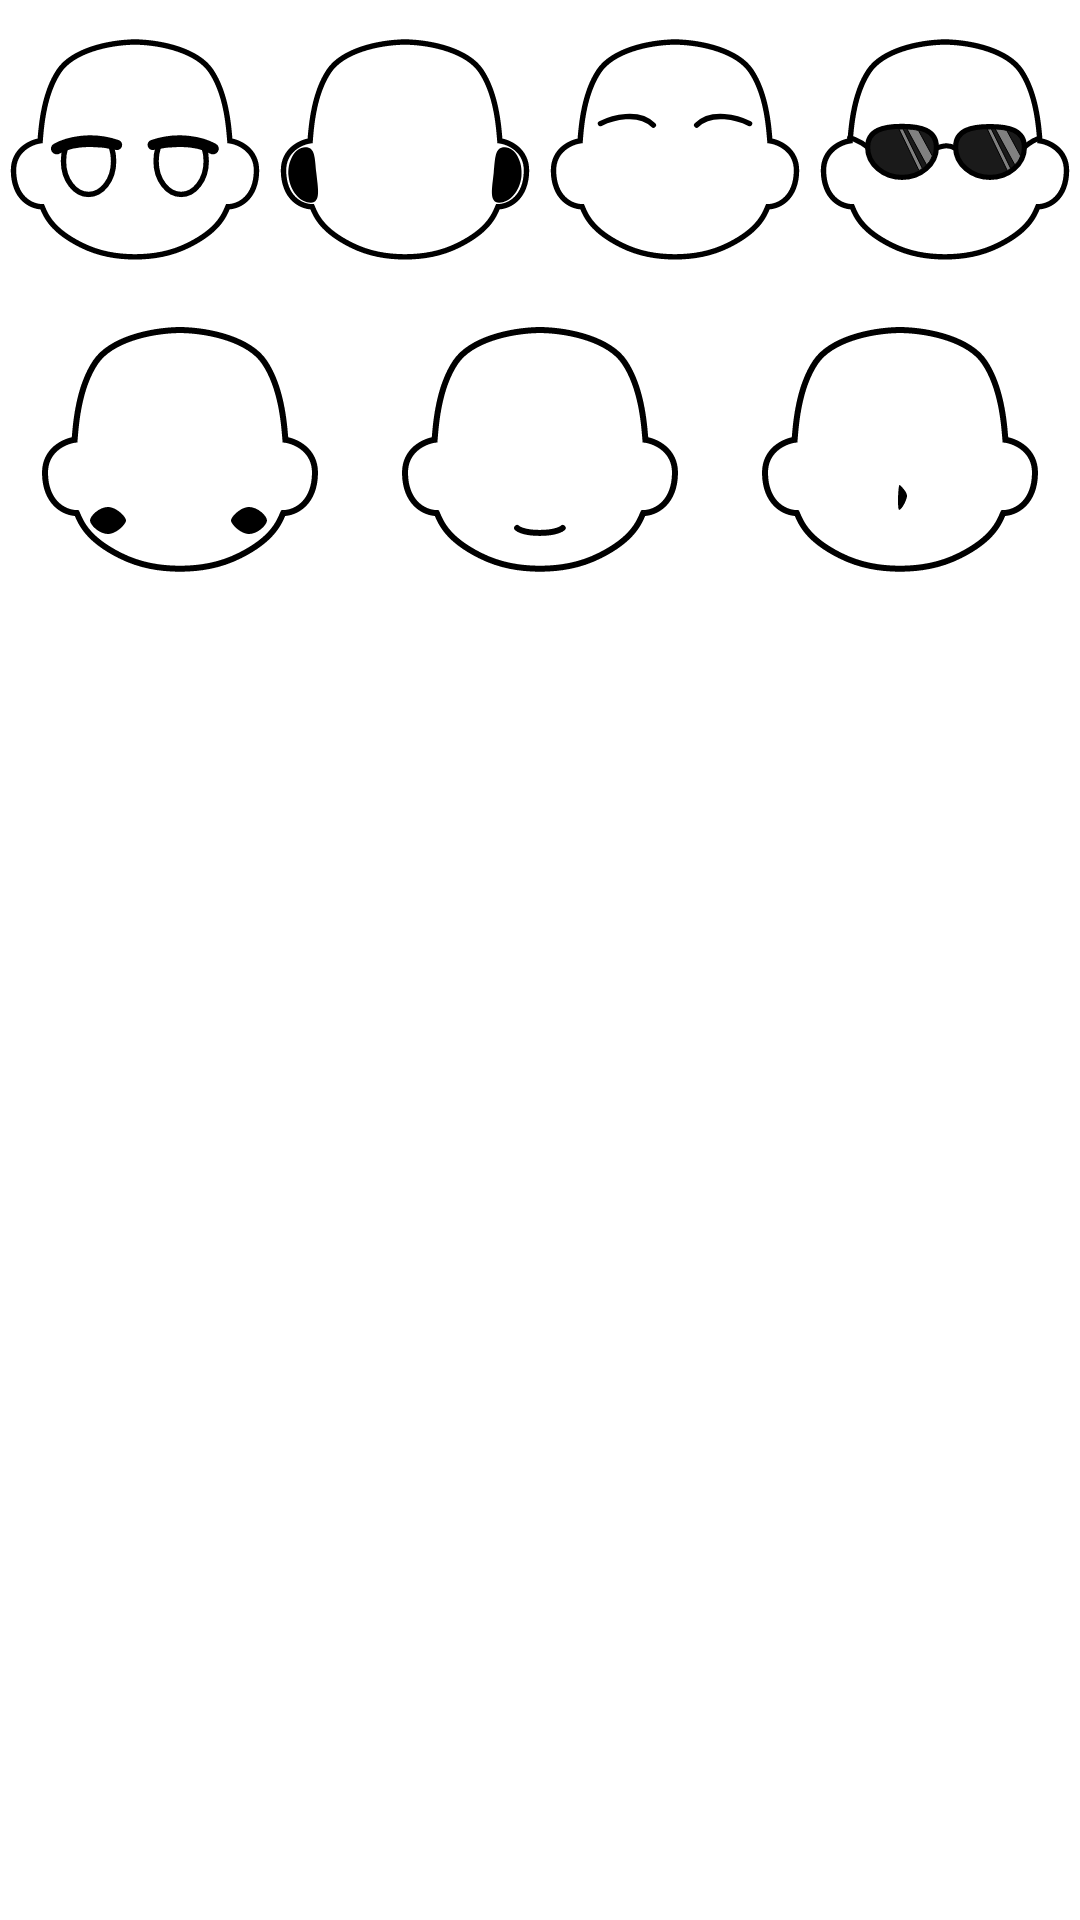

Where to tap for icons on this 1080 × 1920 app screen, as (x=x, y=y):
ears menu: (x=405, y=149)
eyebrows menu: (x=675, y=149)
eyes menu: (x=135, y=149)
face effects menu: (x=180, y=449)
head accessories menu: (x=945, y=149)
mouth menu: (x=540, y=449)
nose menu: (x=900, y=449)
